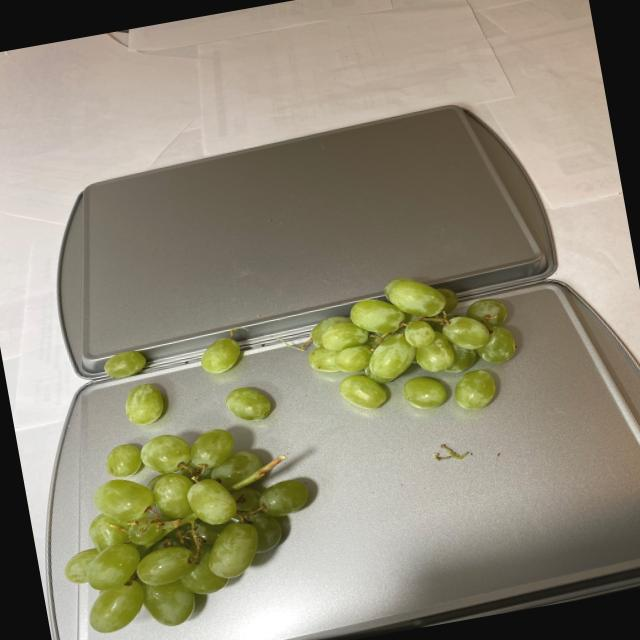grapes: (31, 314, 330, 640), (291, 261, 534, 438)
